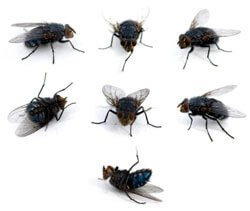phorid fly: (90, 147, 174, 207), (169, 6, 244, 72), (6, 8, 88, 68), (6, 73, 79, 139), (171, 81, 248, 143), (88, 81, 166, 140), (97, 9, 160, 74)
